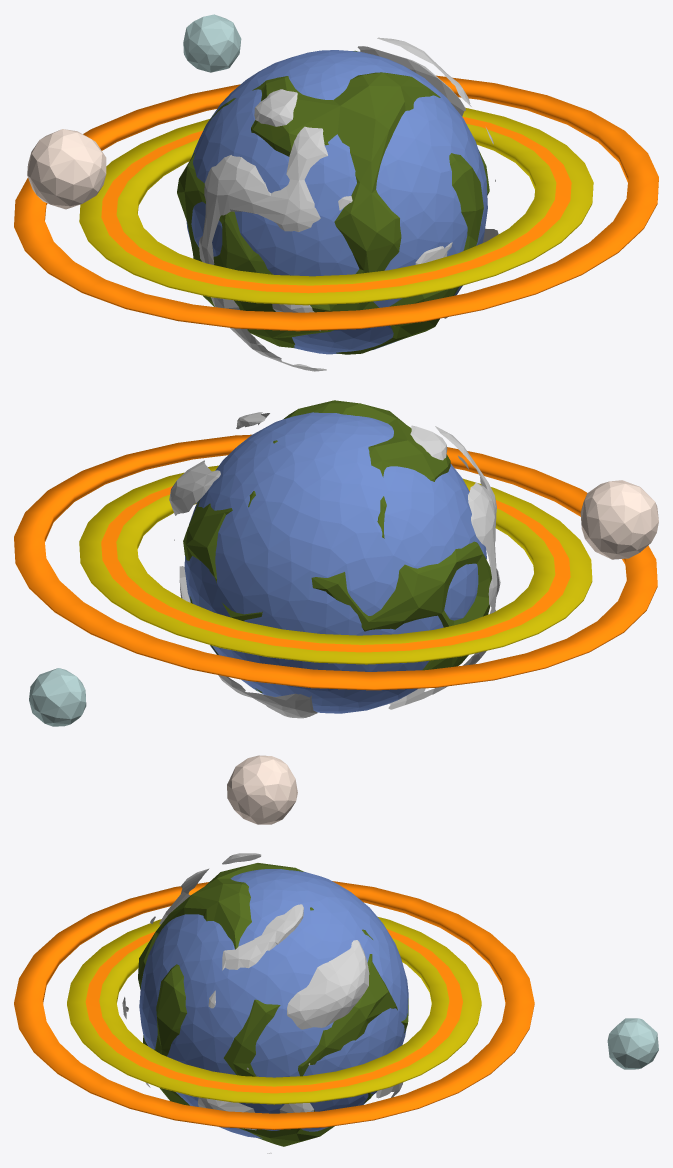
File: planet02.fbx
3 renders of one model, top to bottom at view 1: azimuth 30°, elevation 25°; view 2: azimuth 150°, elevation 25°; view 3: azimuth 270°, elevation 25°, orthographic. The views are drawn at different scales.
Visible parts, largest first — view 1: Cylinder, Sphere, Icosphere, Sphere.001, Icosphere.001, Icosphere.002; view 2: Cylinder, Sphere, Icosphere, Sphere.001, Icosphere.001, Icosphere.002; view 3: Cylinder, Sphere, Icosphere, Sphere.001, Icosphere.001, Icosphere.002.
Boxes of the visible parts, x1,y1,x2,y2 form: Cylinder: (14, 75, 658, 331); Sphere: (186, 50, 487, 354); Icosphere: (177, 50, 489, 354); Sphere.001: (199, 37, 498, 371); Icosphere.001: (27, 129, 106, 209); Icosphere.002: (183, 14, 241, 72); Cylinder: (14, 434, 657, 690); Sphere: (184, 412, 486, 713); Icosphere: (183, 400, 491, 692); Sphere.001: (169, 412, 500, 718); Icosphere.001: (580, 480, 658, 559); Icosphere.002: (29, 668, 86, 726); Cylinder: (14, 881, 534, 1129); Sphere: (139, 869, 408, 1138); Icosphere: (138, 863, 408, 1146); Sphere.001: (122, 853, 402, 1153); Icosphere.001: (227, 755, 297, 824); Icosphere.002: (607, 1018, 658, 1069).
Bounding box in the file's own units: 9.67 × 4.42 × 10.12.
